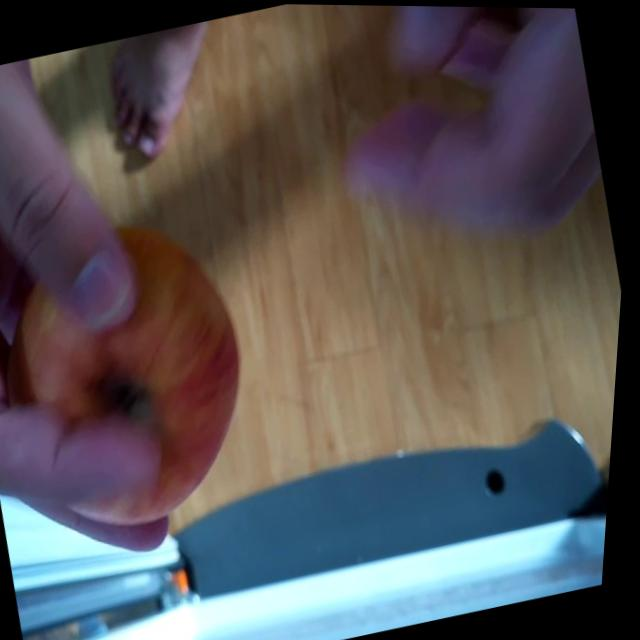apple: (0, 197, 286, 535)
